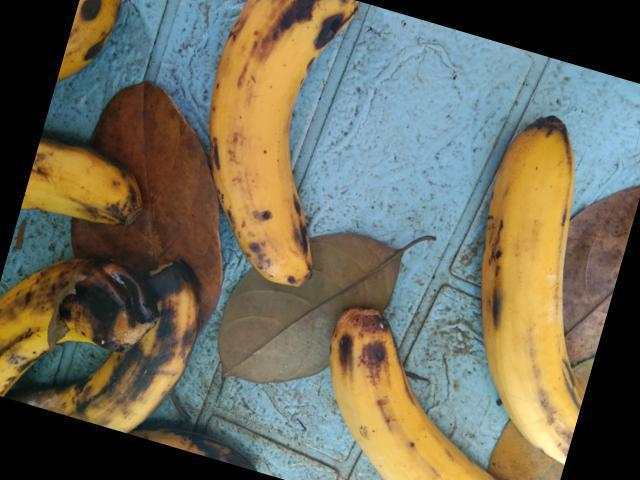overripe: (187, 0, 371, 302), (8, 122, 164, 233), (47, 0, 133, 83)
ripe: (462, 99, 613, 479), (312, 297, 505, 479)
rotten: (44, 251, 214, 442), (0, 256, 141, 407)
